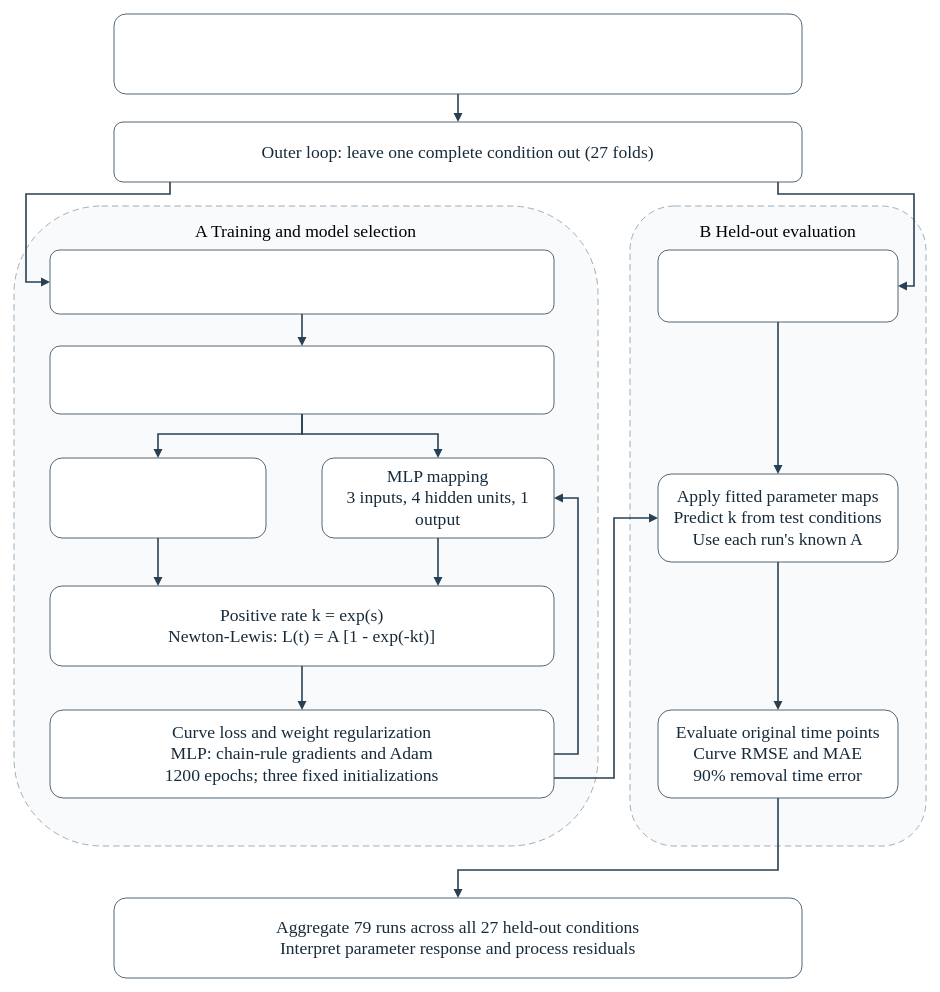
The diagram is 940 pixels wide and 992 high, and some of its shapes have lost their labels. The shapes that lost their labels are listed below. From the top down, each one's centre as x and y in pixels, then its label:
At (457,53): "Experiment records T, dry-air flow, humidity ratio, time and fabric mass".
At (301,281): "Training set: 26 conditions Repeated runs stay in the same group".
At (777,285): "Test set One held-out condition".
At (301,379): "Inner grouped validation Select regularization and refit the models".
At (157,497): "Log-linear mapping 4 coefficients".
